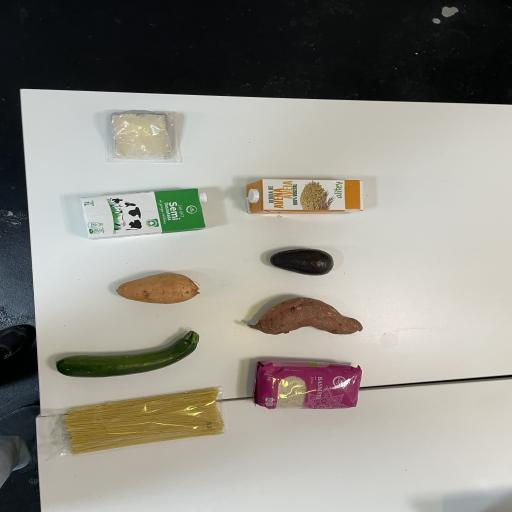avocado: (266, 245, 335, 278)
courgette: (48, 330, 204, 383)
cured_goat_cheese: (104, 106, 186, 170)
milk: (76, 185, 208, 245)
oat_milk: (242, 174, 374, 221)
rice: (249, 354, 370, 416)
spaghetti: (51, 389, 227, 457)
sweet_potato: (242, 293, 374, 343), (107, 271, 204, 309)
